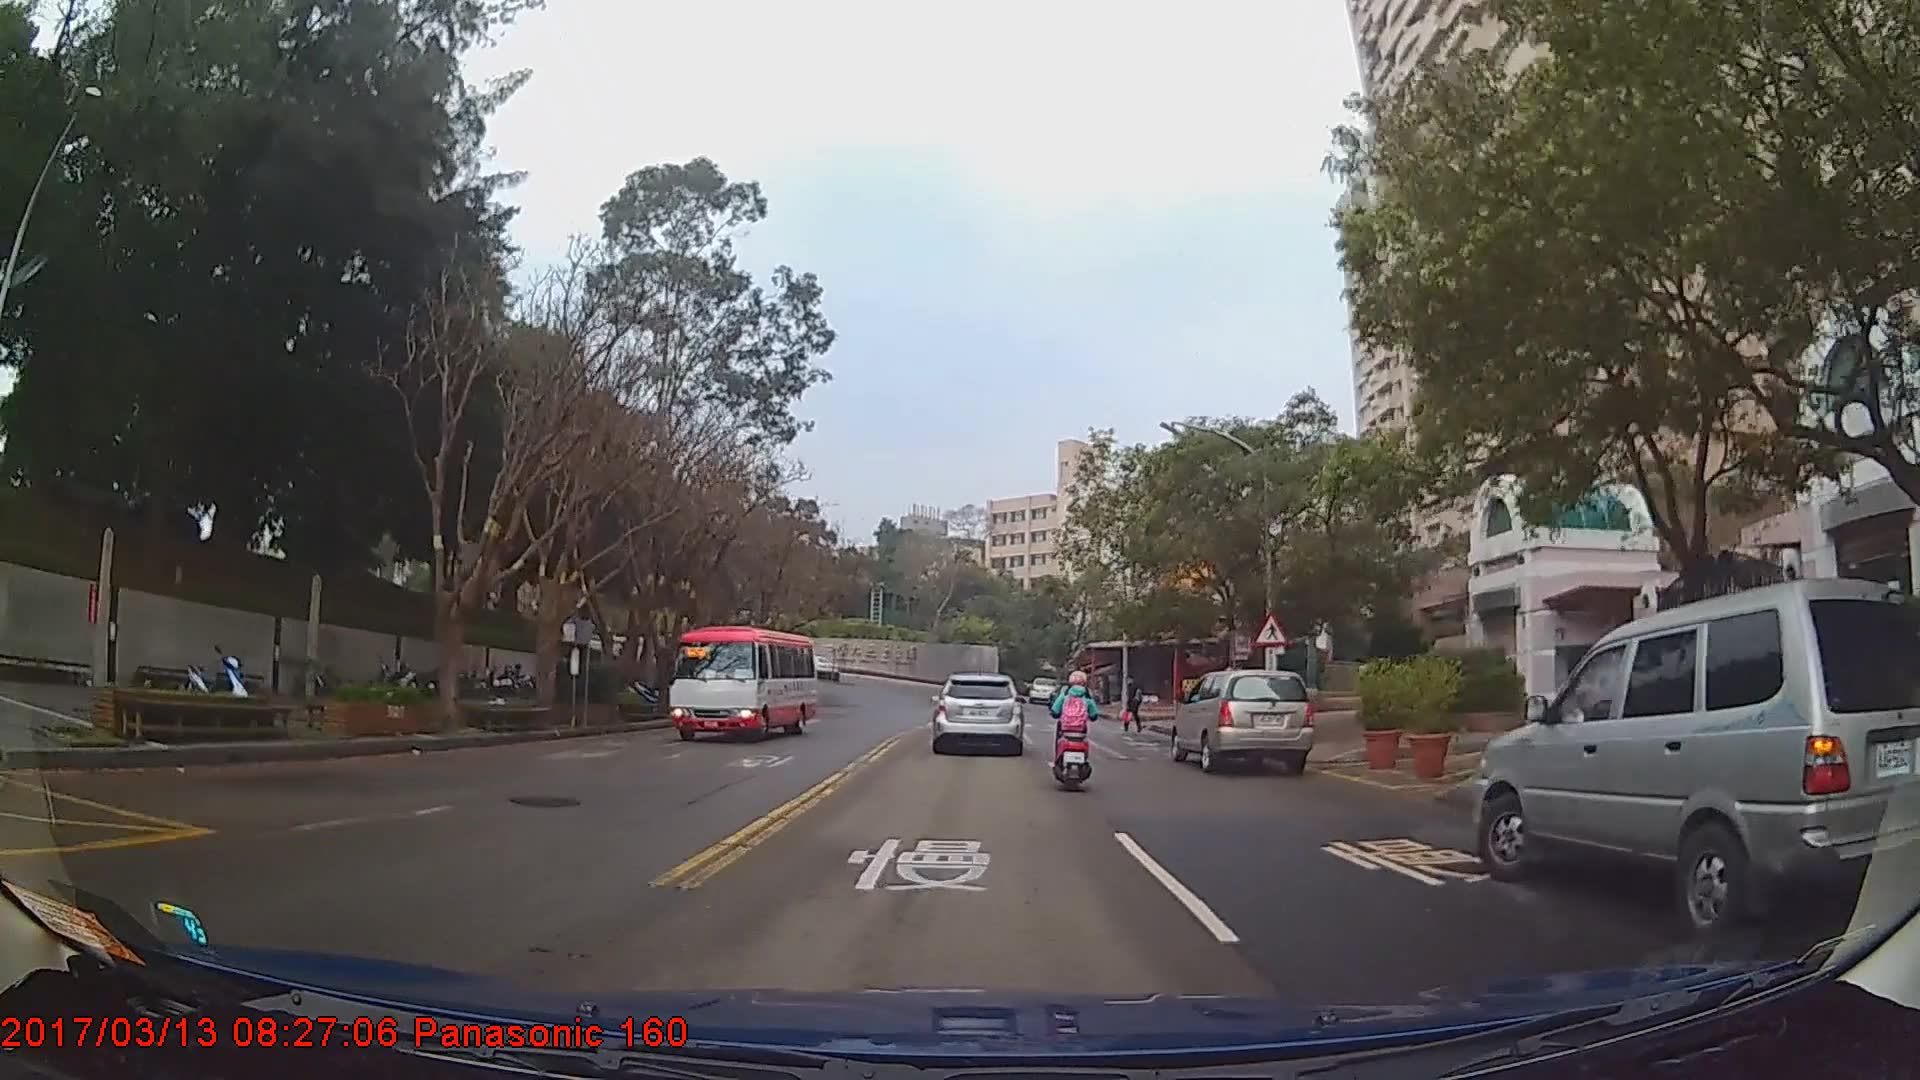pedestrian: (1121, 672, 1146, 737)
rider: (1049, 665, 1104, 795)
vehicle: (1478, 574, 1920, 936), (670, 626, 819, 743), (1168, 668, 1314, 773), (929, 674, 1025, 757), (1027, 676, 1059, 703)
